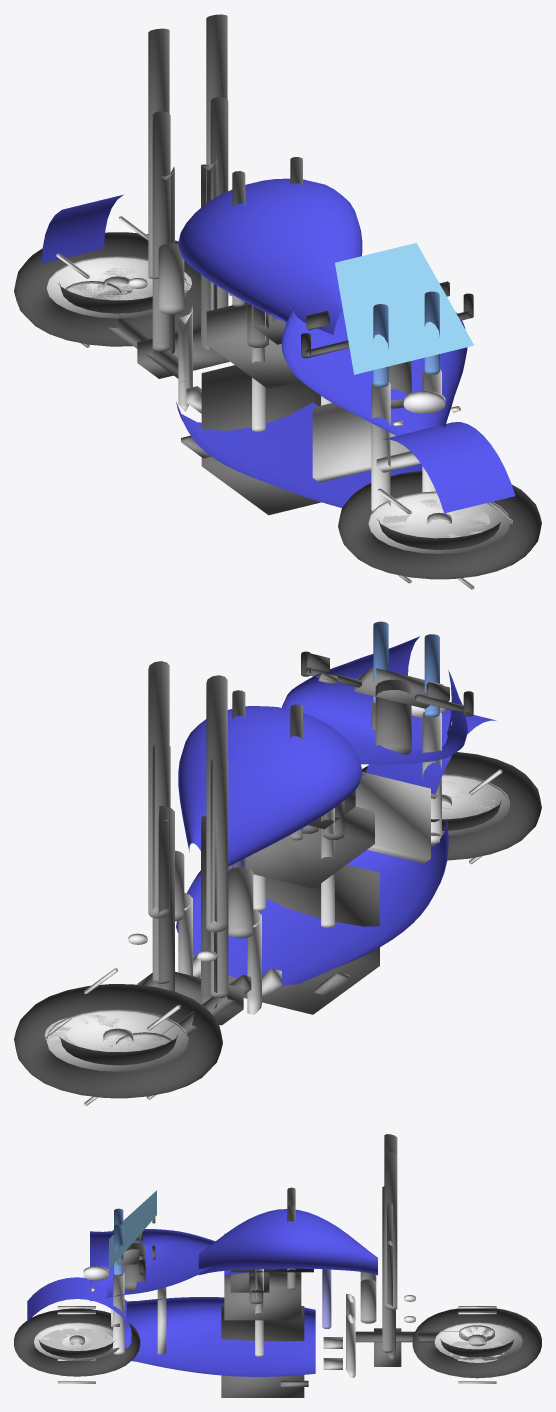
Rendered from sportbike.glb.
3 renders of one model, top to bottom at view 1: azimuth 30°, elevation 25°; view 2: azimuth 150°, elevation 25°; view 3: azimuth 270°, elevation 25°, orthographic. The views are drawn at different scales.
Parts seen in each view (by area): view 1: tank, windscreen, front_tire, rear_tire, fairing_lower, fairing_upper, engine_block, front_fender, downtube (×2), backbone (×2), front_rim, radiator (+15 smaller); view 2: tank, rear_tire, fairing_lower, backbone (×2), fairing_upper, engine_block, front_tire, rear_rim, engine_head, radiator, swingarm (×2), downtube (×2) (+12 smaller); view 3: fairing_lower, tank, rear_tire, fairing_upper, front_tire, engine_block, engine_head, front_fender, rear_rim, backbone, downtube, front_rim (+19 smaller).
Part boxes in pixels (bbox=[...]): tank: bbox=[178, 178, 362, 334]; windscreen: bbox=[335, 243, 474, 374]; front_tire: bbox=[338, 471, 541, 579]; rear_tire: bbox=[14, 232, 200, 346]; fairing_lower: bbox=[176, 401, 422, 507]; fairing_upper: bbox=[281, 306, 467, 436]; engine_block: bbox=[201, 365, 321, 515]; front_fender: bbox=[382, 422, 515, 513]; downtube (×2): bbox=[152, 97, 228, 351]; backbone (×2): bbox=[148, 14, 227, 279]; front_rim: bbox=[368, 491, 509, 553]; radiator: bbox=[312, 403, 409, 482]; tank: bbox=[178, 706, 362, 866]; rear_tire: bbox=[14, 984, 222, 1098]; fairing_lower: bbox=[176, 818, 448, 985]; backbone (×2): bbox=[148, 661, 227, 932]; fairing_upper: bbox=[282, 636, 467, 764]; engine_block: bbox=[228, 864, 379, 1014]; front_tire: bbox=[362, 752, 541, 860]; rear_rim: bbox=[46, 1009, 188, 1071]; engine_head: bbox=[228, 806, 374, 888]; radiator: bbox=[355, 772, 430, 863]; swingarm (×2): bbox=[158, 806, 217, 1008]; downtube (×2): bbox=[152, 745, 228, 997]; fairing_lower: bbox=[124, 1297, 315, 1376]; tank: bbox=[198, 1209, 377, 1275]; rear_tire: bbox=[412, 1308, 541, 1378]; fairing_upper: bbox=[90, 1229, 215, 1301]; front_tire: bbox=[14, 1308, 140, 1376]; engine_block: bbox=[221, 1306, 304, 1397]; engine_head: bbox=[224, 1272, 301, 1320]; front_fender: bbox=[27, 1277, 126, 1322]; rear_rim: bbox=[434, 1322, 522, 1360]; backbone: bbox=[384, 1151, 397, 1309]; downtube: bbox=[382, 1203, 392, 1352]; front_rim: bbox=[34, 1322, 119, 1360].
Bounding box in the file's own units: 0.9192 × 1.63 × 3.3.
